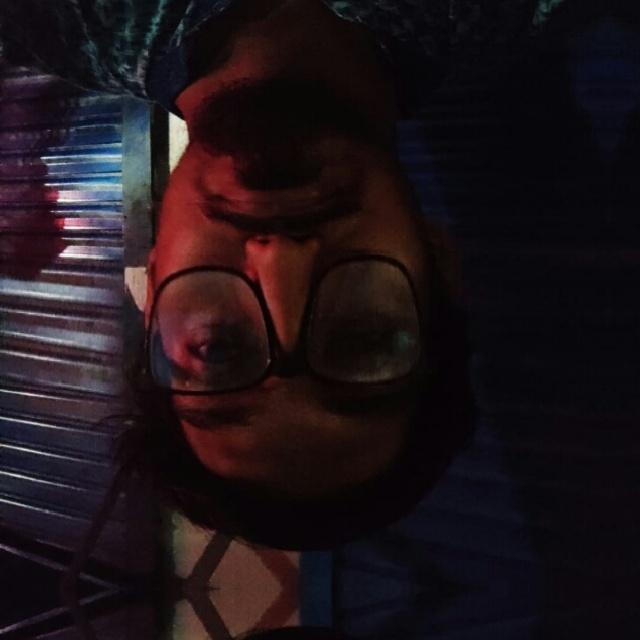Sad: (87, 71, 497, 560)
